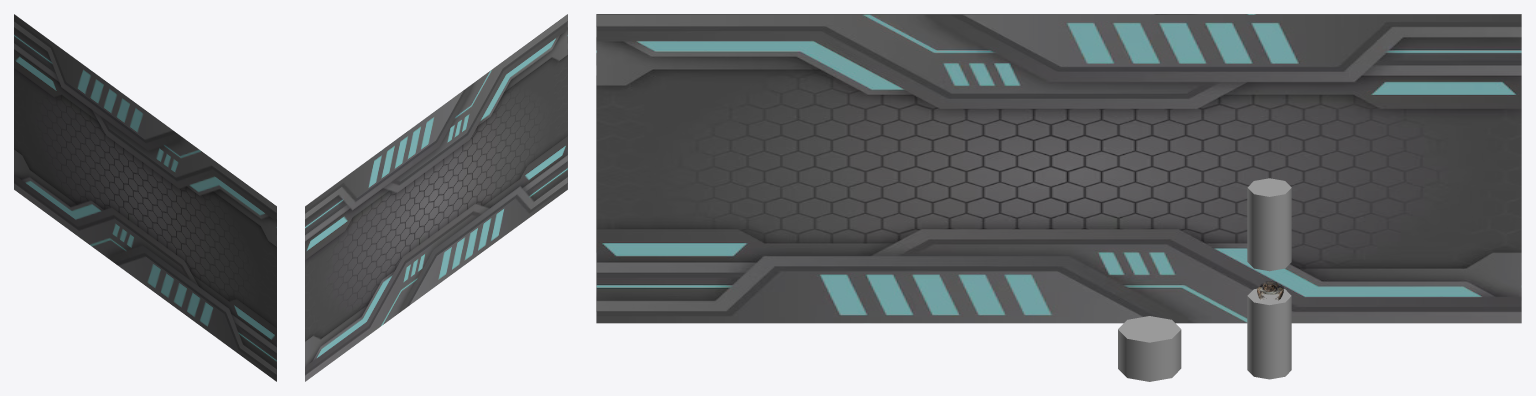
File: level 6.fbx
3 views of the same model, side by side, from view 1: azimuth 30°, elevation 25°; view 2: azimuth 150°, elevation 25°; view 3: azimuth 270°, elevation 25° (orthographic). The views are drawn at different scales.
Parts seen in each view (by area): view 1: pCylinder5; view 2: pCylinder5; view 3: pCylinder5.
Part boxes in pixels (x1,y1,x2,y2): pCylinder5: [14, 14, 276, 381]; pCylinder5: [305, 14, 567, 381]; pCylinder5: [596, 14, 1521, 381].
Bounding box in the file's own units: 295 × 714 × 1934.
3 materials, 2 textured.
